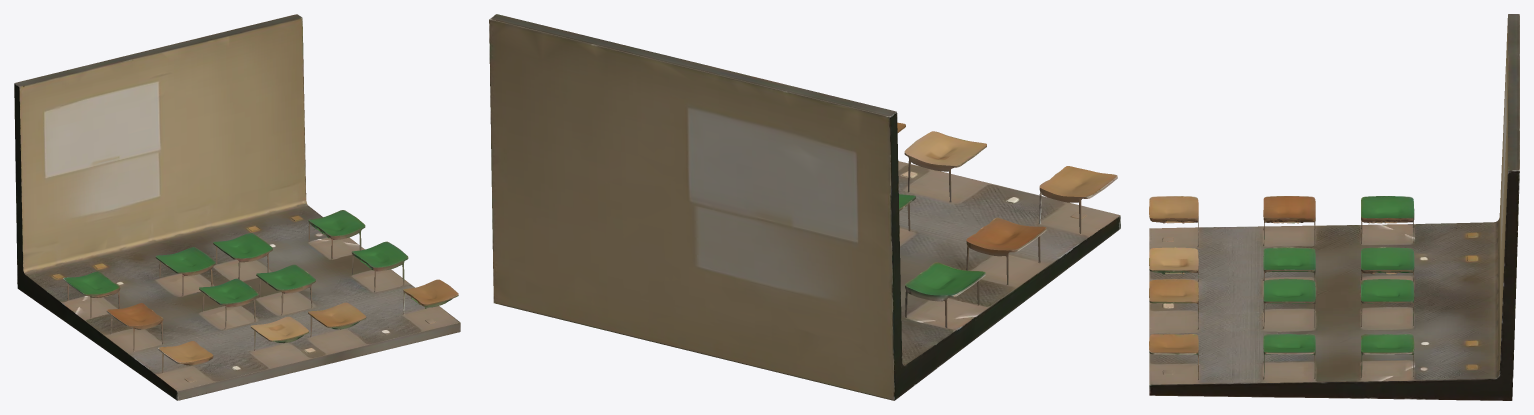
Rendered from classroom_wing.glb.
3 renders of one model, left to right at view 1: azimuth 30°, elevation 25°; view 2: azimuth 150°, elevation 25°; view 3: azimuth 270°, elevation 25°, orthographic. The views are drawn at different scales.
Visible parts, largest first — view 1: model; view 2: model; view 3: model.
Boxes of the visible parts, x1,y1,x2,y2 form: model: (14,14,460,400); model: (489,14,1120,400); model: (1149,14,1519,400).
Bounding box in the file's own units: 1.9 × 1.3 × 1.9.
Materials: 1 (1 with a texture image).
